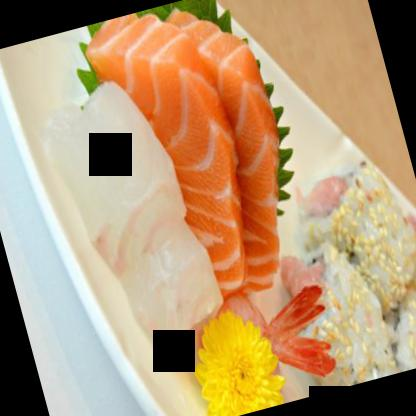salmon: (83, 0, 269, 308), (149, 0, 309, 296)
